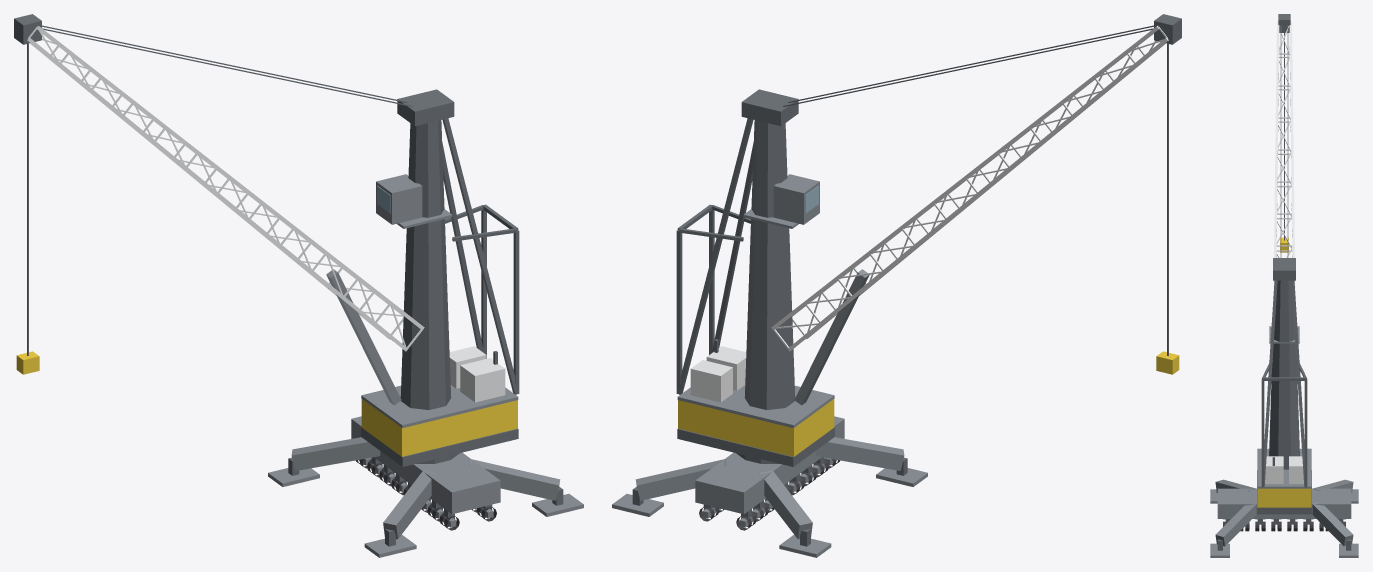
Rendered from lhm-420.glb.
The picture shows the model from 3 angles, left to right: view 1: azimuth 30°, elevation 25°; view 2: azimuth 150°, elevation 25°; view 3: azimuth 270°, elevation 25°; orthographic projection. The views are drawn at different scales.
Visible parts, largest first — view 1: dark, grey, white, yellow, rubber; view 2: dark, grey, white, yellow, rubber; view 3: dark, grey, white, yellow, rubber.
Part boxes in pixels (box(x1,y1,x2,y2)): dark: box(14, 14, 563, 546); grey: box(268, 174, 583, 557); white: box(27, 26, 505, 402); yellow: box(16, 351, 517, 456); rubber: box(355, 459, 496, 530); dark: box(632, 14, 1181, 546); grey: box(612, 174, 927, 557); white: box(690, 26, 1168, 402); yellow: box(678, 351, 1179, 456); rubber: box(699, 459, 840, 530); dark: box(1217, 14, 1351, 550); grey: box(1210, 326, 1358, 557); white: box(1265, 21, 1303, 483); yellow: box(1257, 237, 1311, 507); rubber: box(1223, 519, 1345, 531).
Size of the model in its own units: 43.83 by 46.83 by 16.6.
